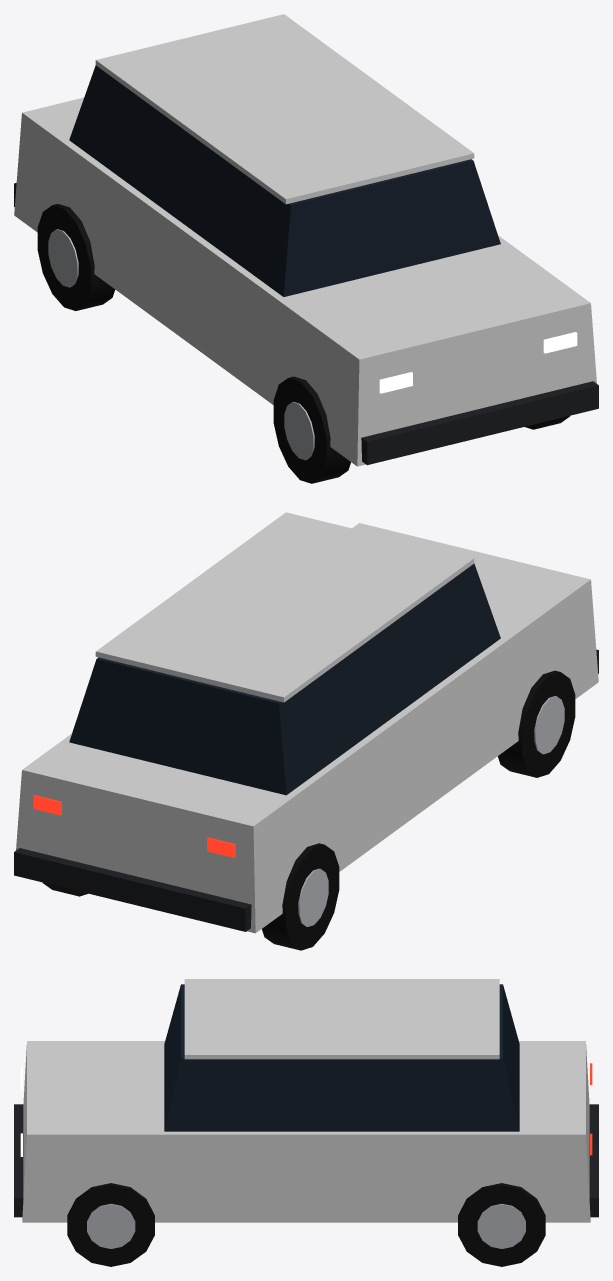
File: suv-1.glb
The picture shows the model from 3 angles, top to bottom: view 1: azimuth 30°, elevation 25°; view 2: azimuth 150°, elevation 25°; view 3: azimuth 270°, elevation 25°; orthographic projection. The views are drawn at different scales.
Size of the model in its own units: 2.03 by 1.86 by 4.94.
